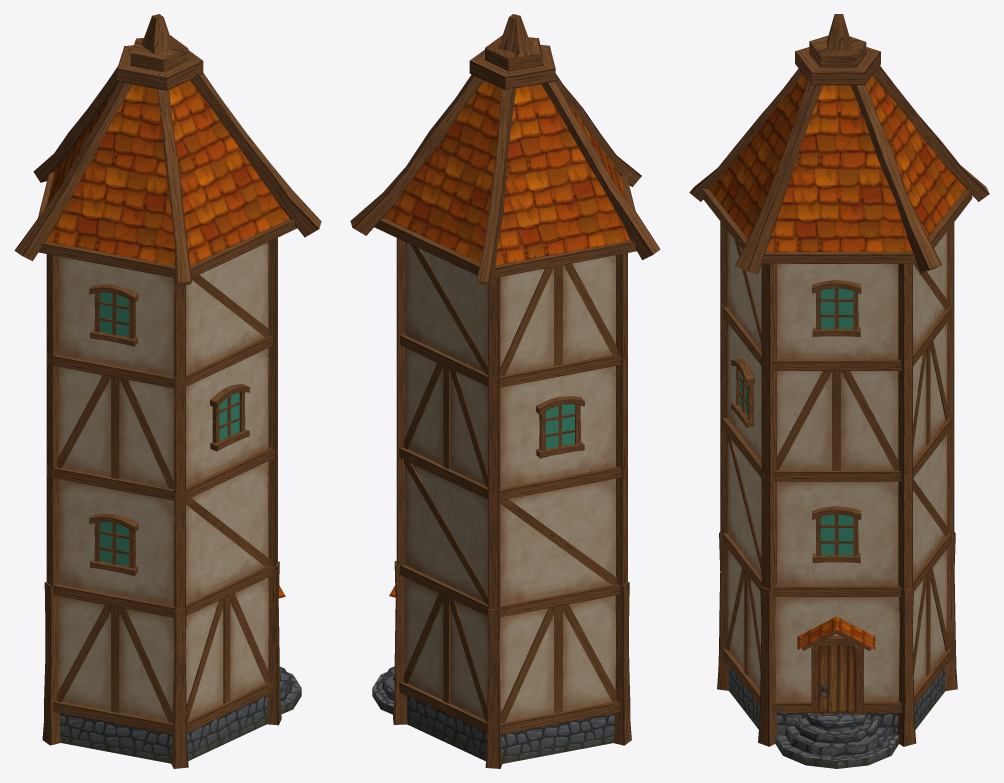
The model's file is casa3.fbx.
3 renders of one model, left to right at view 1: azimuth 30°, elevation 25°; view 2: azimuth 150°, elevation 25°; view 3: azimuth 270°, elevation 25°, orthographic.
Parts seen in each view (by area): view 1: Tower; view 2: Tower; view 3: Tower.
Part boxes in pixels (x1,y1,x2,y2): Tower: (14,14,321,768); Tower: (350,14,660,768); Tower: (689,14,989,768).
Size of the model in its own units: 456 by 1106 by 437.
